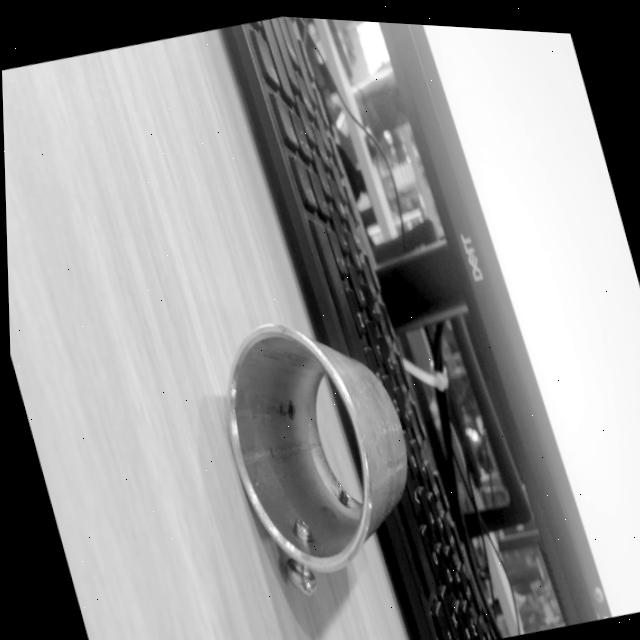Co_Lon: (183, 289, 449, 601)
